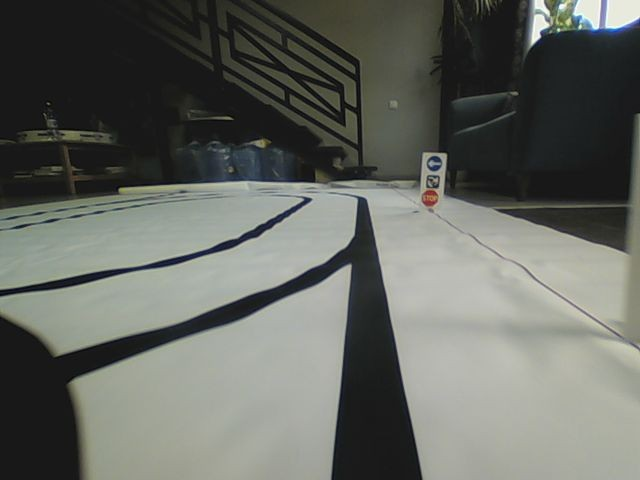Stop: (421, 191, 438, 207)
